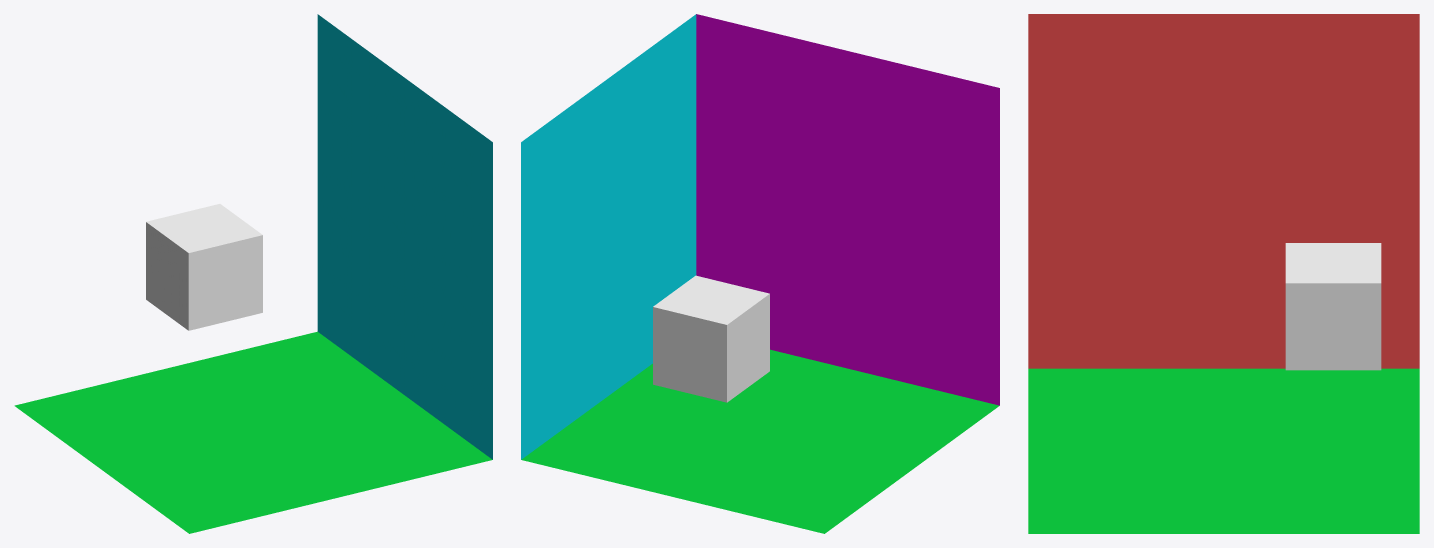
Rendered from TestCubeCave2.glb.
3 renders of one model, left to right at view 1: azimuth 30°, elevation 25°; view 2: azimuth 150°, elevation 25°; view 3: azimuth 270°, elevation 25°, orthographic. The views are drawn at different scales.
Parts seen in each view (by area): view 1: Plane_right, Plane_bottom, Cube; view 2: Plane_back, Plane_right, Plane_bottom, Cube; view 3: Plane_left, Plane_bottom, Cube.
Boxes of the visible parts, x1,y1,x2,y2 form: Plane_right: [317, 14, 492, 459]; Plane_bottom: [14, 331, 492, 533]; Cube: [146, 204, 262, 330]; Plane_back: [696, 14, 999, 405]; Plane_right: [521, 14, 696, 459]; Plane_bottom: [521, 349, 999, 533]; Cube: [653, 275, 769, 402]; Plane_left: [1028, 14, 1419, 368]; Plane_bottom: [1028, 368, 1419, 533]; Cube: [1285, 243, 1381, 370].
Bounding box in the file's own units: 10 × 10 × 10.
